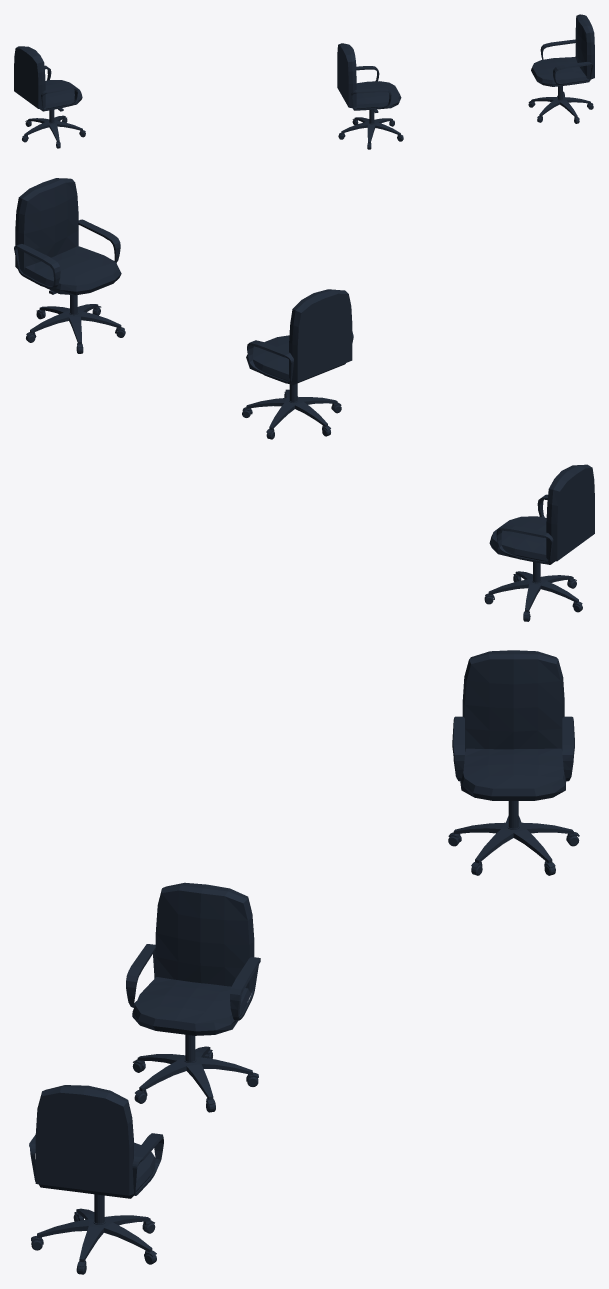
The model's file is office-chair.obj.
The picture shows the model from 3 angles, top to bottom: view 1: azimuth 30°, elevation 25°; view 2: azimuth 150°, elevation 25°; view 3: azimuth 270°, elevation 25°; orthographic projection. The views are drawn at different scales.
Parts seen in each view (by area): view 1: chair.006-0, chair.006-1; view 2: chair.006-0, chair.006-1; view 3: chair.006-0, chair.006-1.
Boxes of the visible parts, x1,y1,x2,y2 form: chair.006-0: (14,14,594,111); chair.006-1: (22,39,593,149); chair.006-0: (15,178,594,564); chair.006-1: (14,219,582,621); chair.006-0: (35,650,566,1198); chair.006-1: (29,716,579,1274).
Size of the model in its own units: 1.25 by 0.2306 by 0.6412.
